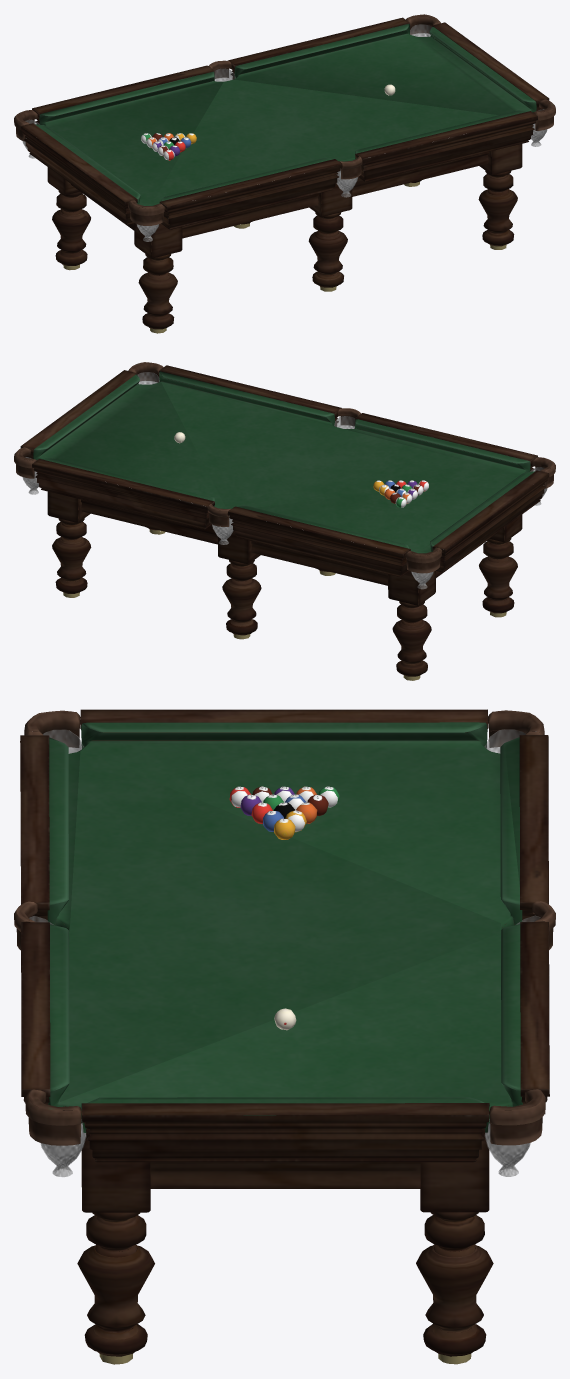
Rendered from table-15.glb.
3 views of the same model, one above another, from view 1: azimuth 30°, elevation 25°; view 2: azimuth 150°, elevation 25°; view 3: azimuth 270°, elevation 25° (orthographic). The views are drawn at different scales.
Parts seen in each view (by area): view 1: pooltable_low_pool_table_mat_0; view 2: pooltable_low_pool_table_mat_0; view 3: pooltable_low_pool_table_mat_0.
Boxes of the visible parts, bbox=[...] form: pooltable_low_pool_table_mat_0: bbox=[14, 14, 555, 333]; pooltable_low_pool_table_mat_0: bbox=[14, 362, 555, 680]; pooltable_low_pool_table_mat_0: bbox=[14, 709, 555, 1364].
Size of the model in its own units: 11.9 by 3.91 by 6.71.
Materials: 2 (2 with a texture image).
